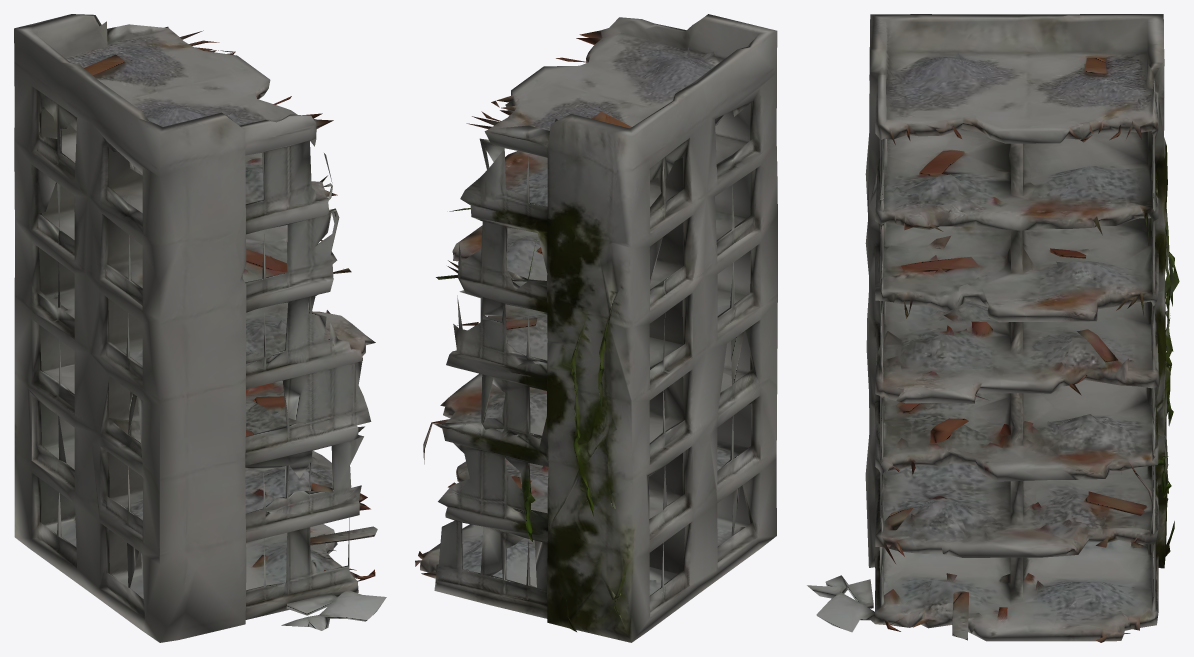
Rendered from ruin-tower.glb.
The picture shows the model from 3 angles, left to right: view 1: azimuth 30°, elevation 25°; view 2: azimuth 150°, elevation 25°; view 3: azimuth 270°, elevation 25°; orthographic projection.
Visible parts, largest first — view 1: tripo_node_94e402b6-a327-4cb6-8544-a3ee28fd8828; view 2: tripo_node_94e402b6-a327-4cb6-8544-a3ee28fd8828; view 3: tripo_node_94e402b6-a327-4cb6-8544-a3ee28fd8828.
Boxes of the visible parts, box(x1,y1,x2,y2) form: tripo_node_94e402b6-a327-4cb6-8544-a3ee28fd8828: box(14, 14, 386, 642); tripo_node_94e402b6-a327-4cb6-8544-a3ee28fd8828: box(415, 14, 777, 642); tripo_node_94e402b6-a327-4cb6-8544-a3ee28fd8828: box(807, 14, 1179, 642).
Size of the model in its own units: 0.5412 by 1 by 0.6569.
Materials: 1 (1 with a texture image).
